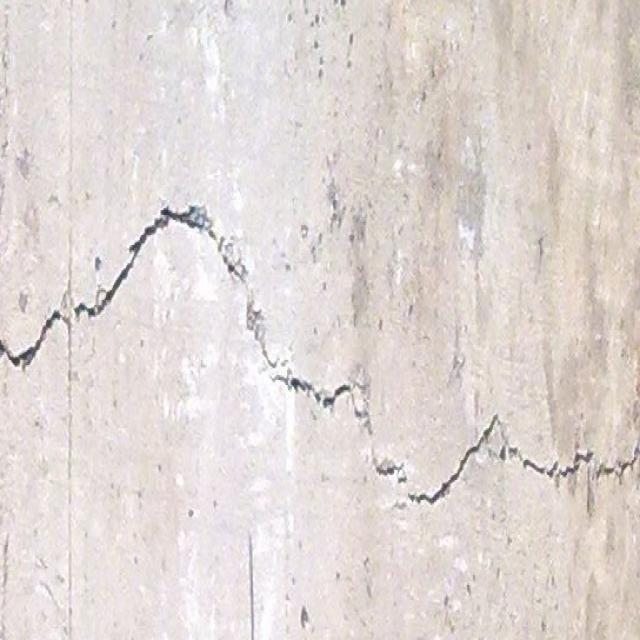Transverse: (0, 204, 640, 508)
